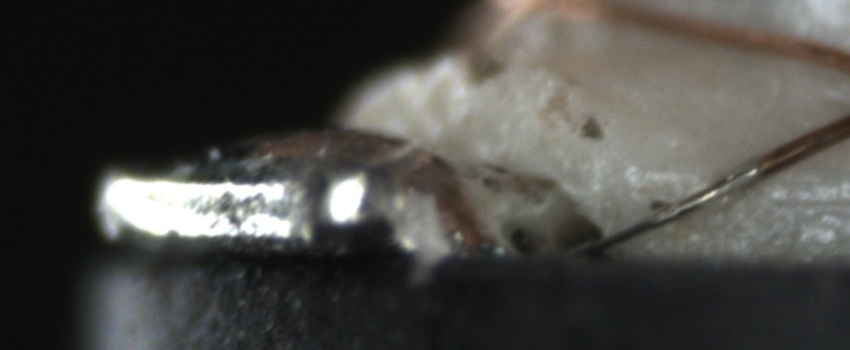DL: (762, 169, 849, 229)
TS: (546, 160, 764, 262)
TTCW: (558, 142, 802, 262)
